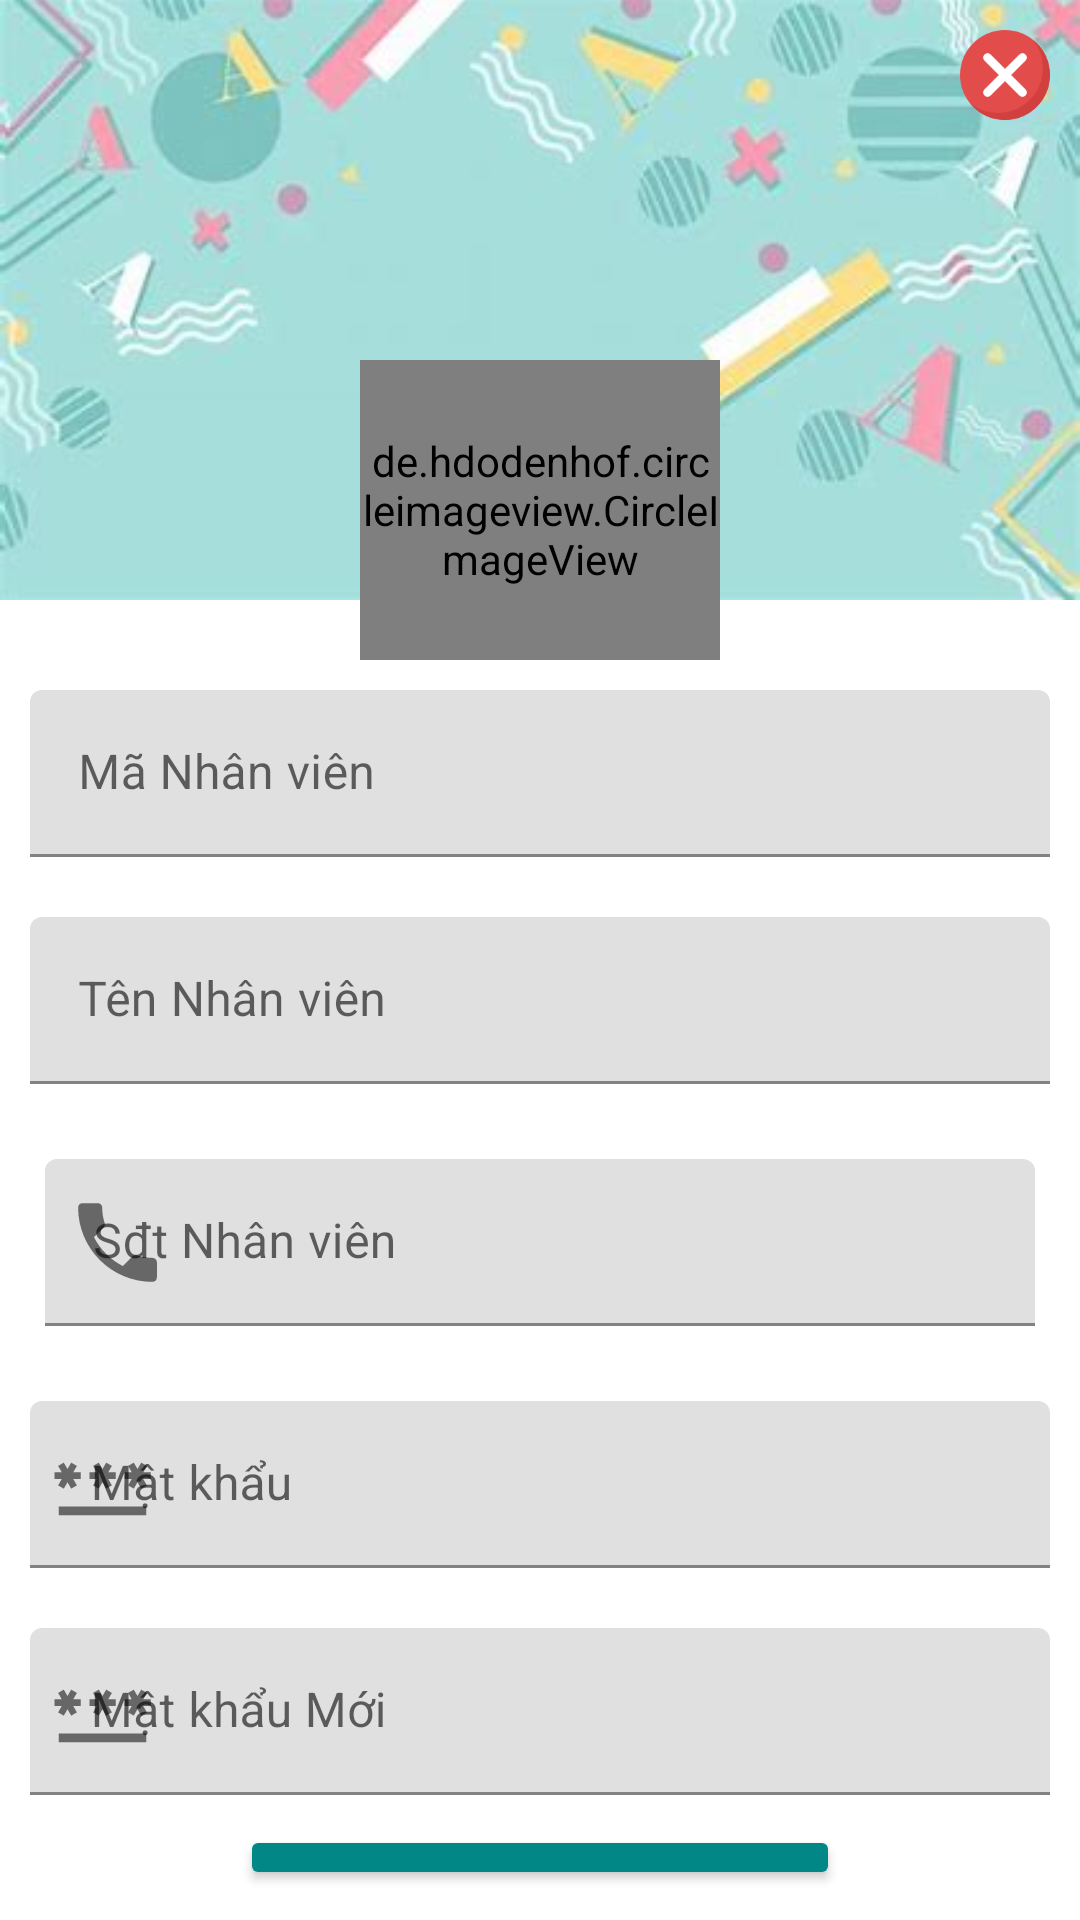

Named icons in this screenshot (1080w x 1920h) and their centers, (x=x, y=y):
out dialog: (x=1005, y=75)
